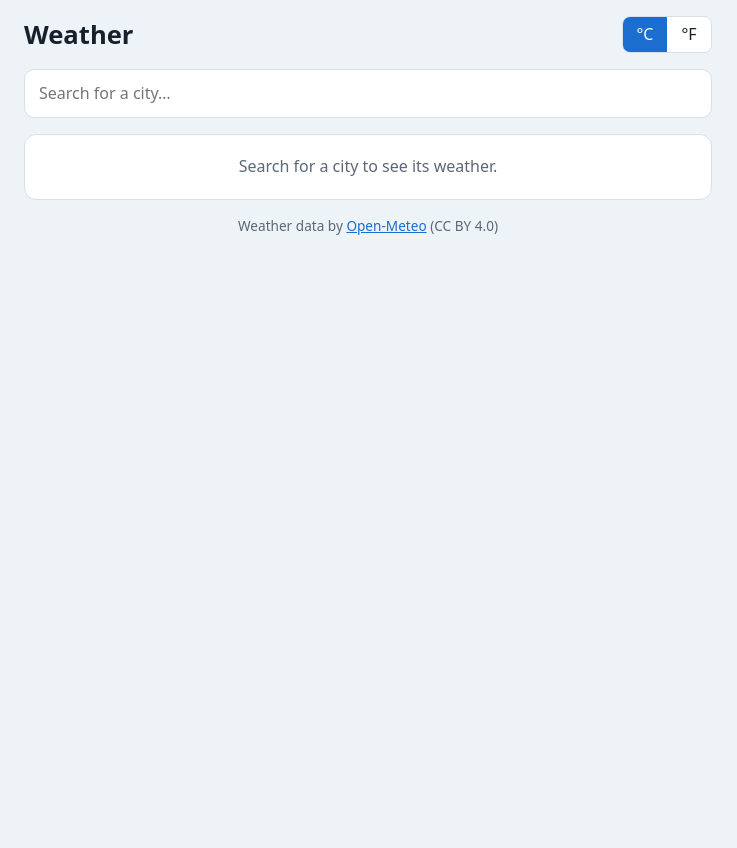
Test: App › switches units without another request and remembers the choice
The image size is (737, 848).
Type "Berlin" into the dropdown with placeholder "Search for a city…".
click(368, 94); type("Berlin")  # box [24,69,712,118]
Wait 250 ms
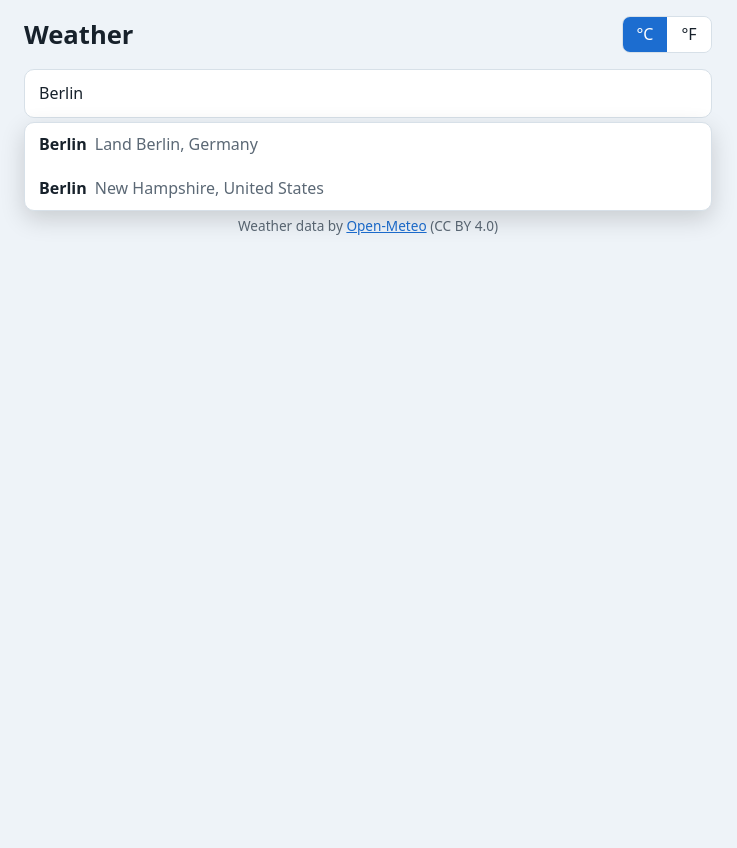
Click the option "Berlin Land Berlin, Germany".
click(148, 144)  # box [39,133,258,155]
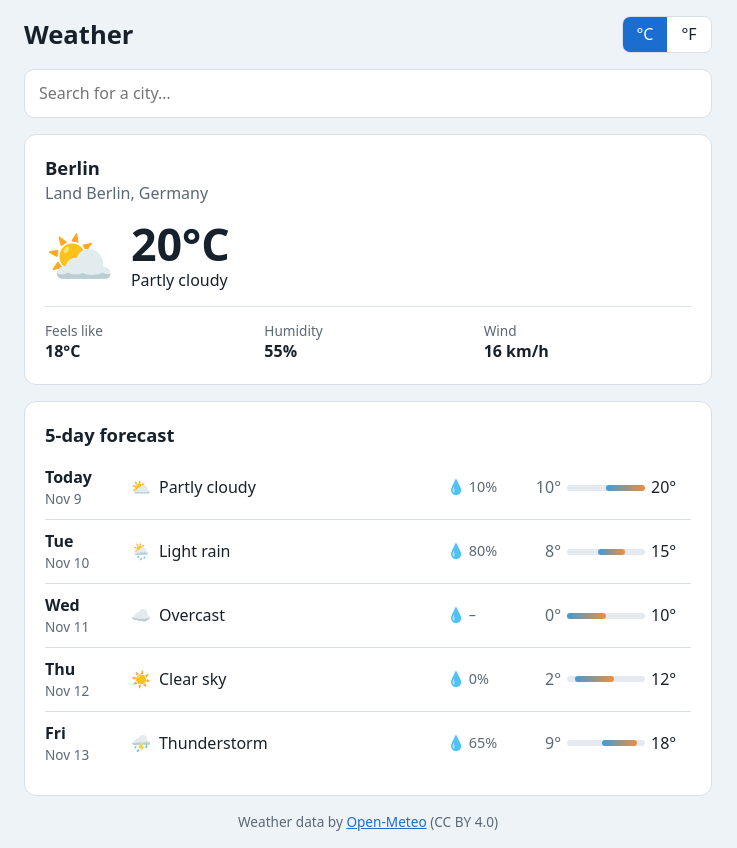
Click the button named "Fahrenheit".
click(689, 35)  # box [667,17,711,52]
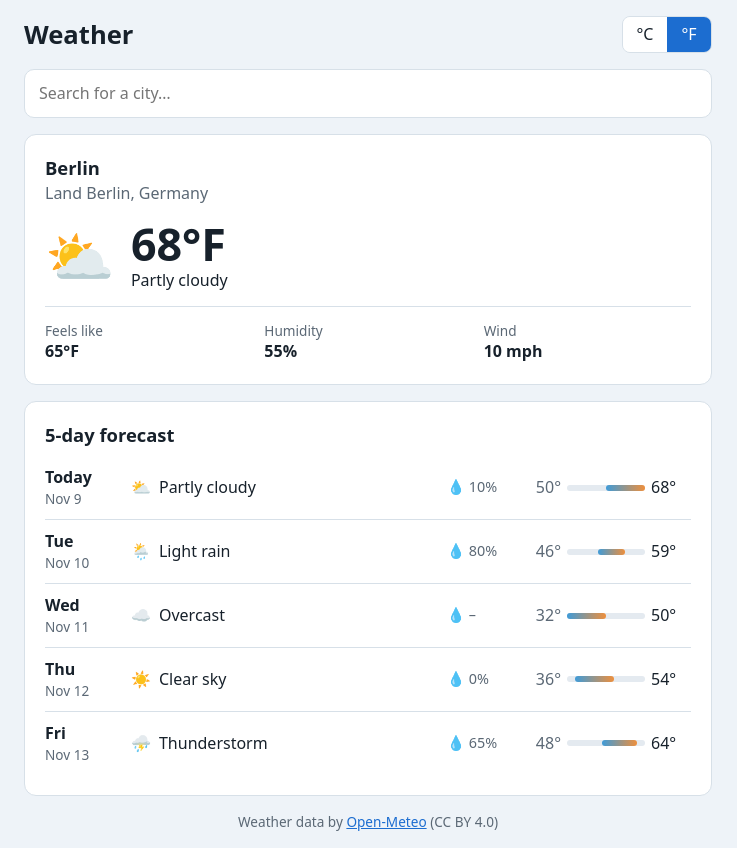
Check: the text with test id "current-temp" reads "68°F", box [131,213,226,274]
Check: the text with test id "wind" reads "10 mph", box [484,340,542,362]
Check: the list item with test id "day" shows "68°", box [651,476,676,498]
